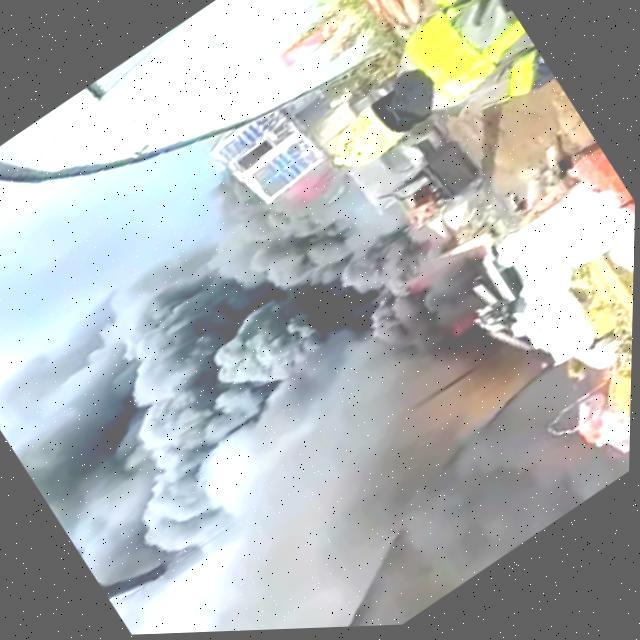Smoke: (0, 101, 554, 640)
